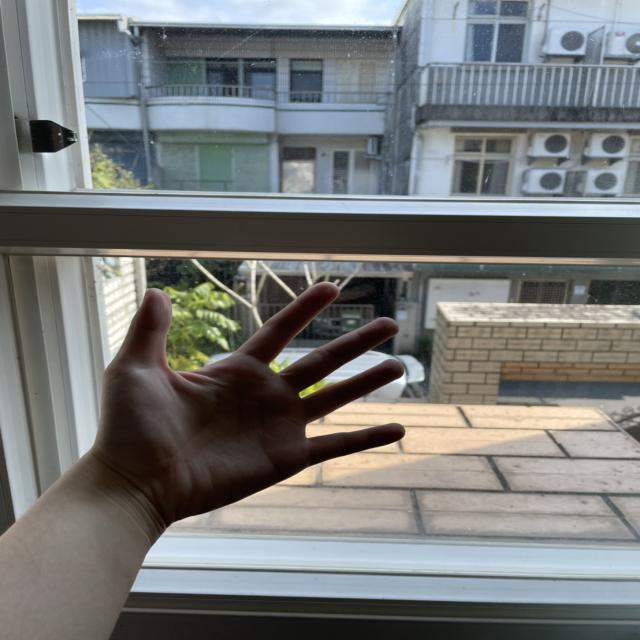no_glove: (84, 266, 423, 543)
